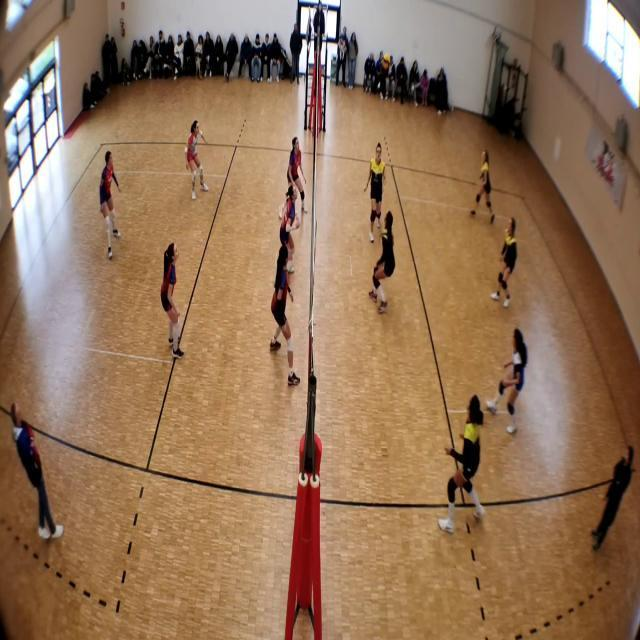volleyball: (380, 54, 390, 68)
